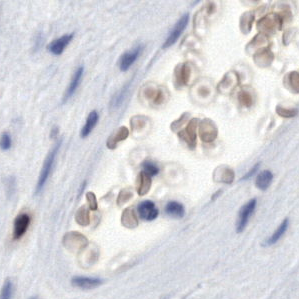Lymphocyte: (8, 209, 32, 240)
